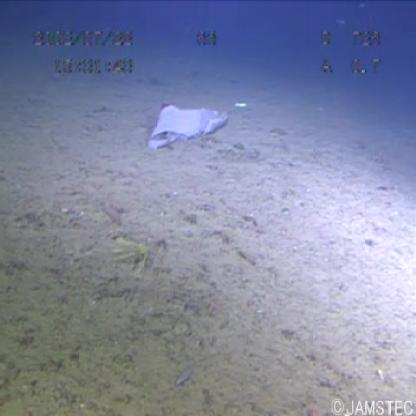Rác: (139, 95, 248, 158)
